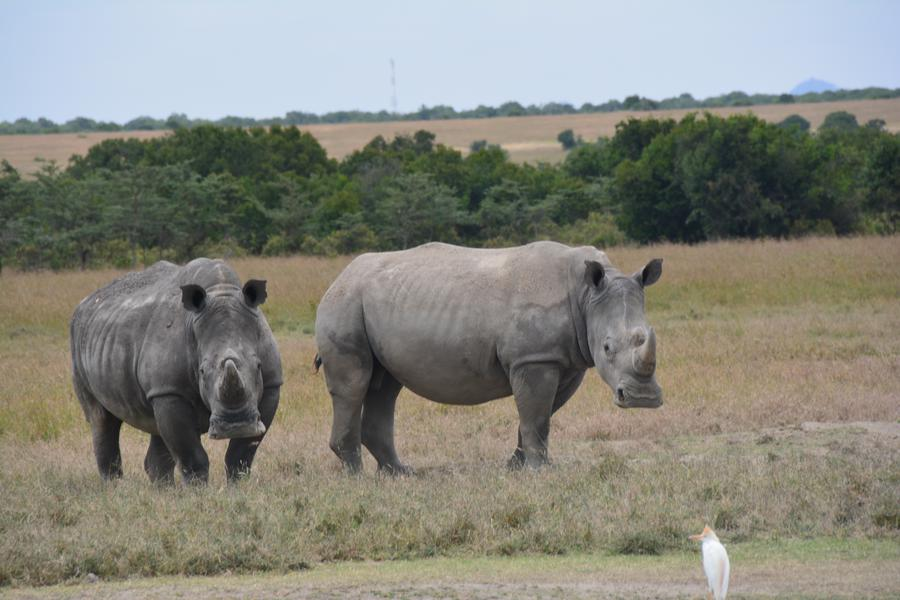rhino: (304, 247, 684, 483), (63, 245, 257, 477)
